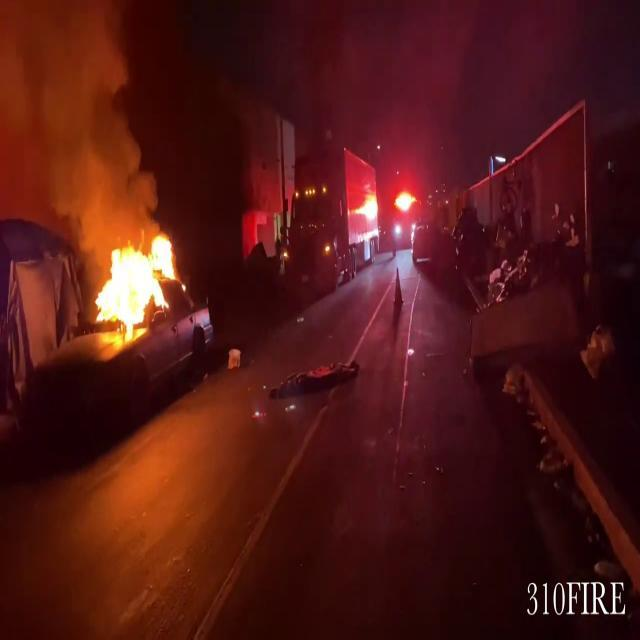Fire: (88, 228, 182, 340)
Smoke: (0, 0, 161, 238)
